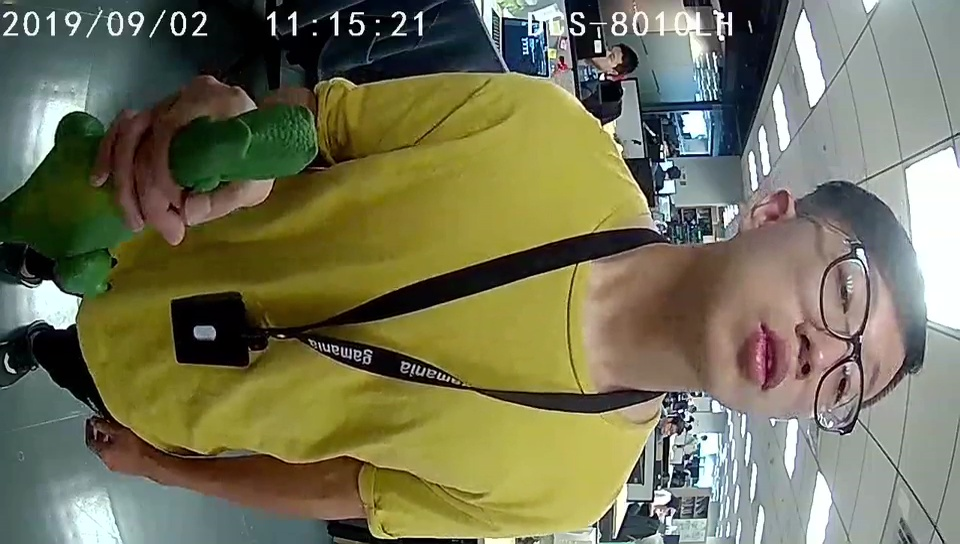rex: (50, 103, 320, 299)
